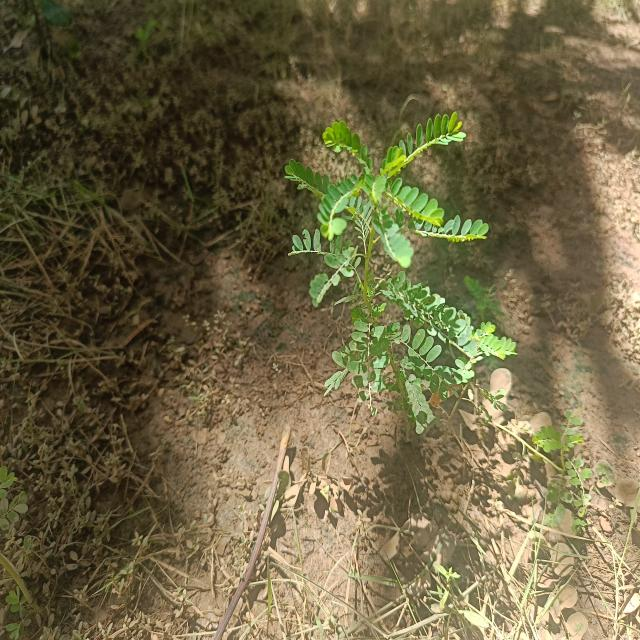weed: (278, 106, 503, 413)
